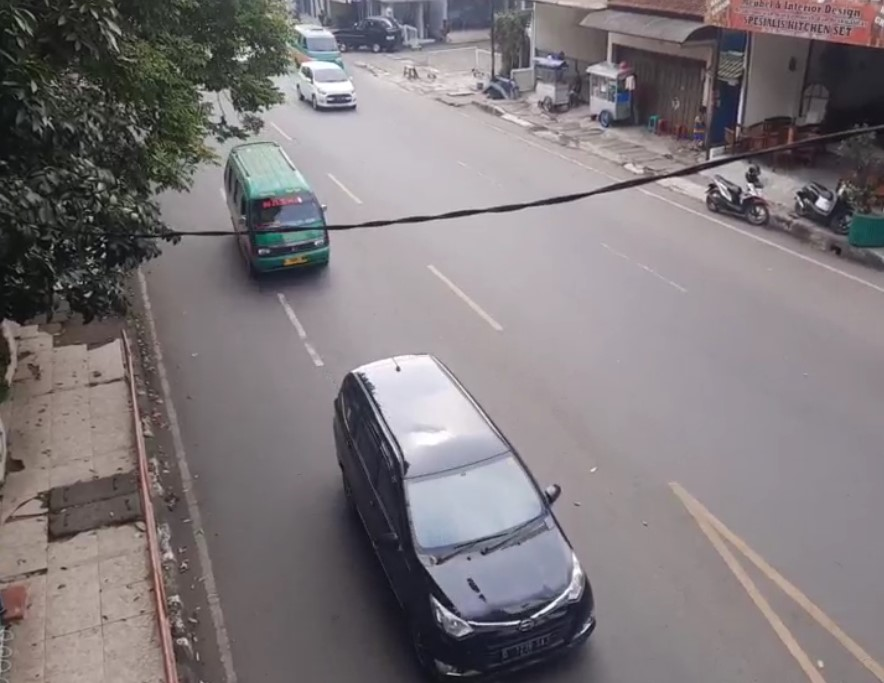mobil: (321, 353, 597, 677), (221, 142, 333, 273)
